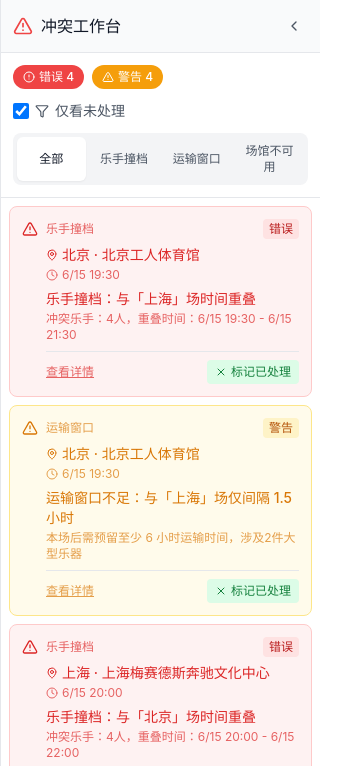
Test: ConflictWorkbench.vue › 标记已处理按钮 › 已处理的冲突按钮文字变为「已处理」
Click the button "标记已处理" below "冲突乐手：4人，重叠时间：6/15 19:30 - 6/15 21:30" at (253, 372), box [207,360,299,384]
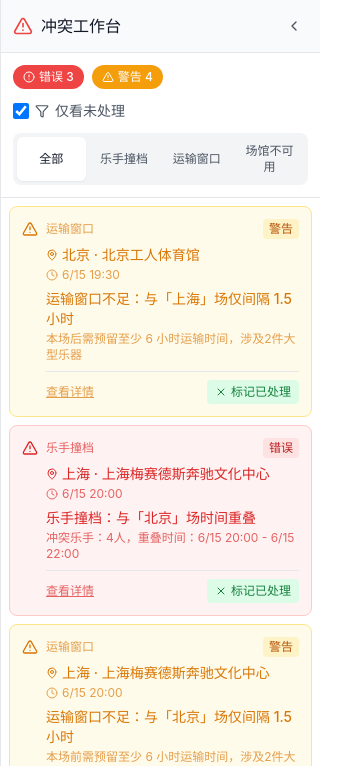
Click the checkbox labelled "仅看未处理" at (21, 111), box [13,103,29,119]
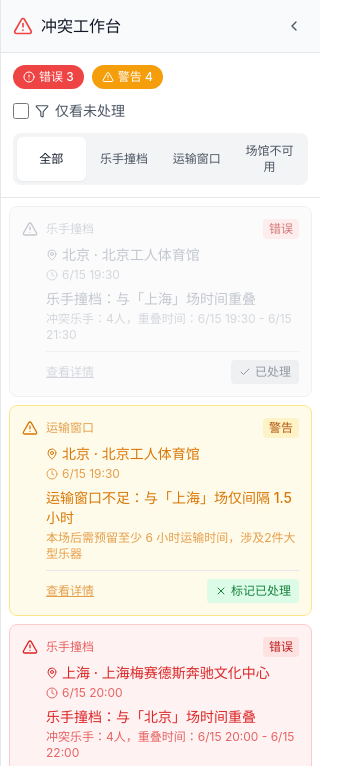
Expected: the button "已处理" is shown, [231,360,299,384]
